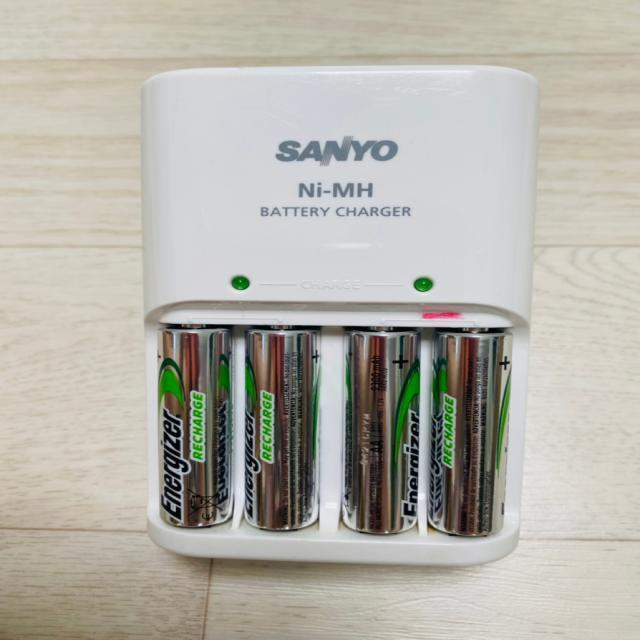Hazard: (426, 327, 514, 539), (243, 324, 323, 534), (343, 326, 420, 536), (156, 321, 233, 530)
